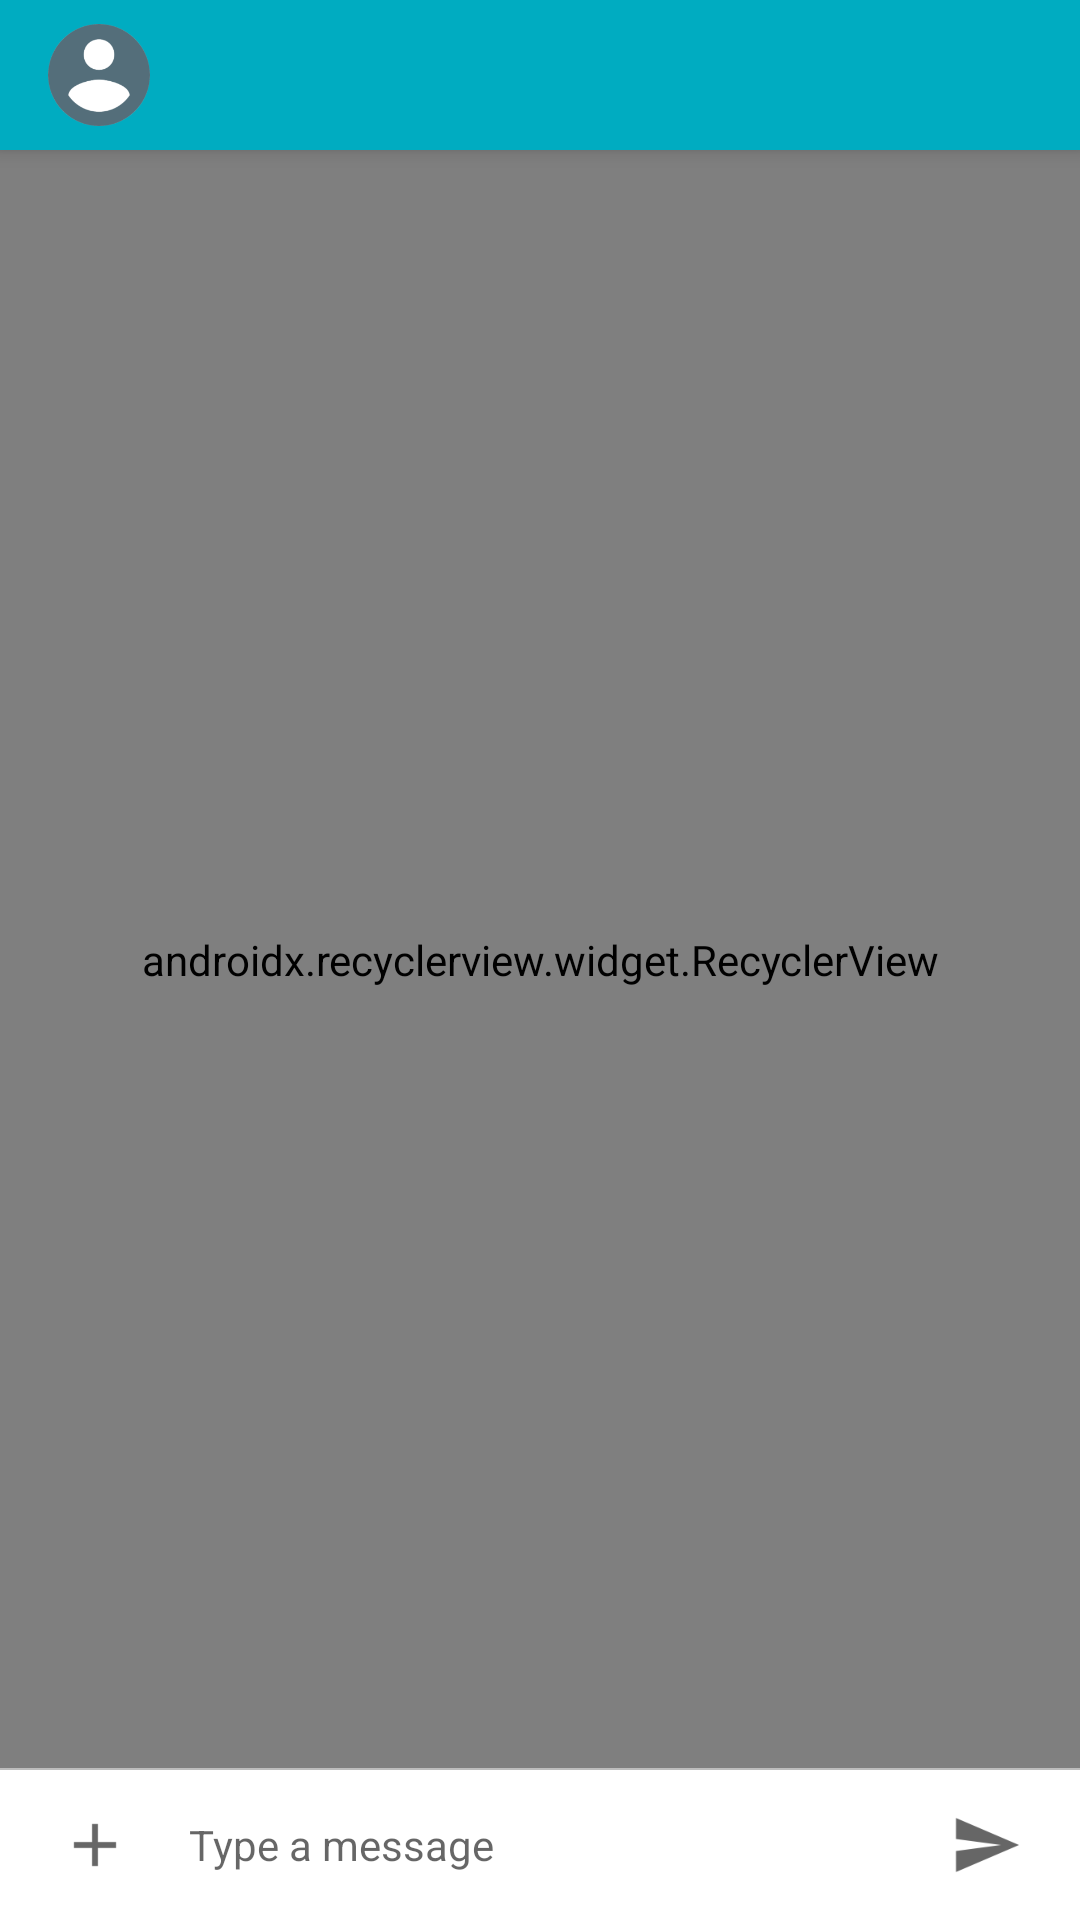

Named icons in this screenshot (1080x1920) and their bounding boxes, bbox(x1, y1, x2, y2):
Add media: bbox(74, 1824, 116, 1866)
dp: bbox(48, 24, 150, 126)
Send message: bbox(955, 1818, 1019, 1872)
